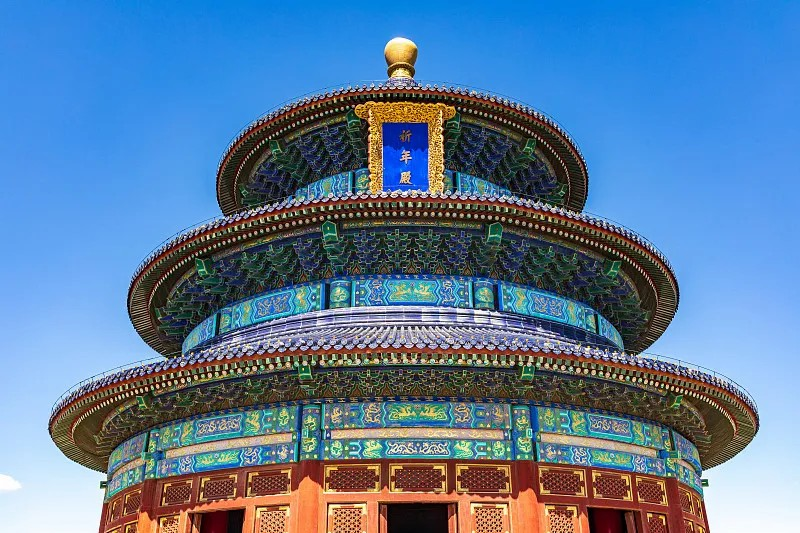Heaven: (46, 37, 759, 533)
